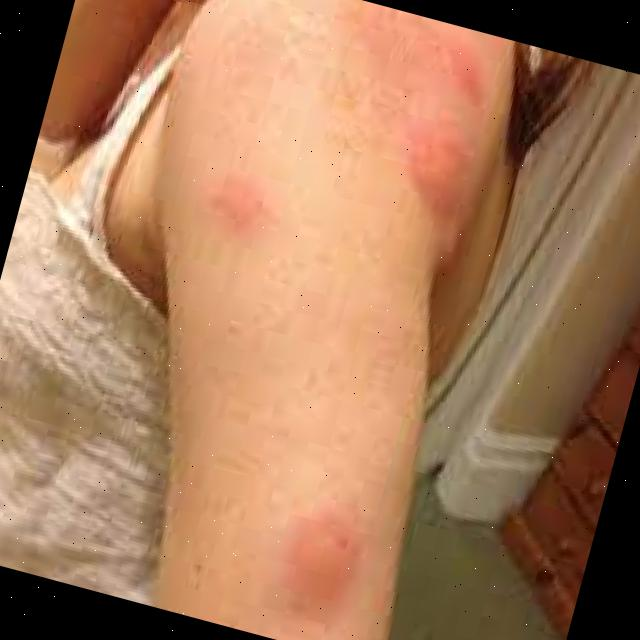kan emici bocekler: (270, 501, 372, 608), (391, 117, 482, 217), (205, 168, 275, 235), (438, 50, 498, 106)
